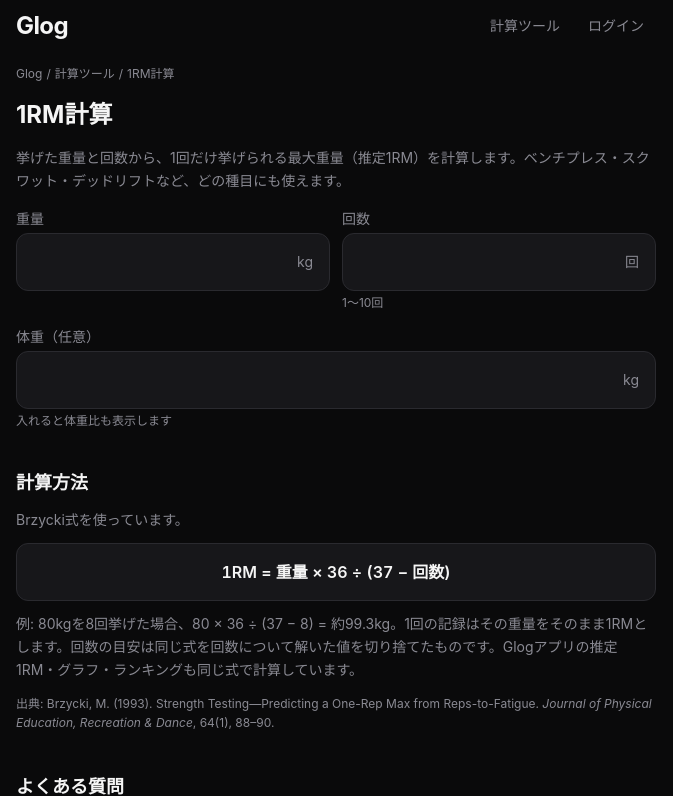
Test case: public calculators › refuses more than 10 reps instead of guessing
Type "60" into the field labelled "重量" at (157, 262), box [17, 234, 297, 290]
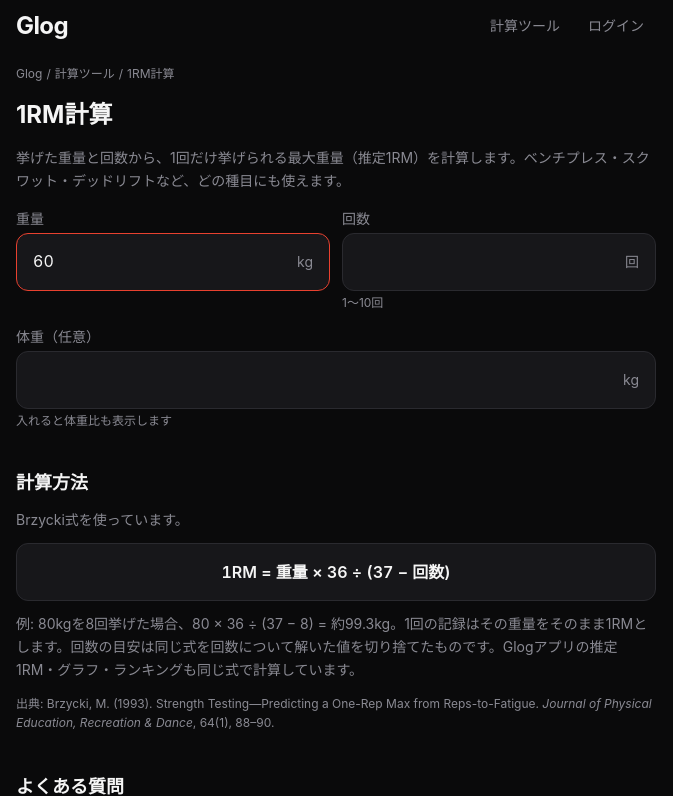
Type "15" into the field labelled "回数" at (484, 262), box [343, 234, 625, 290]
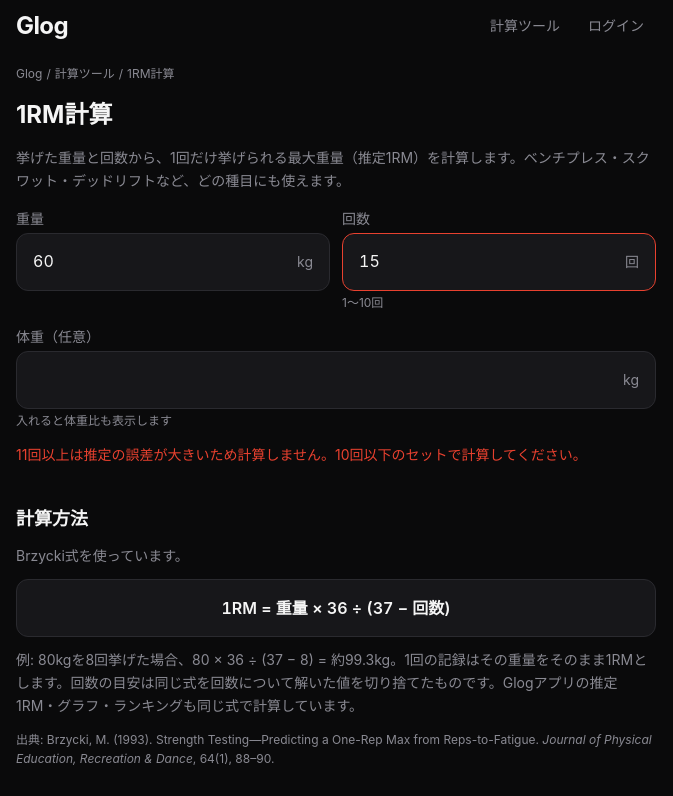
Now the message shows "11回以上", box [16, 446, 587, 462]
